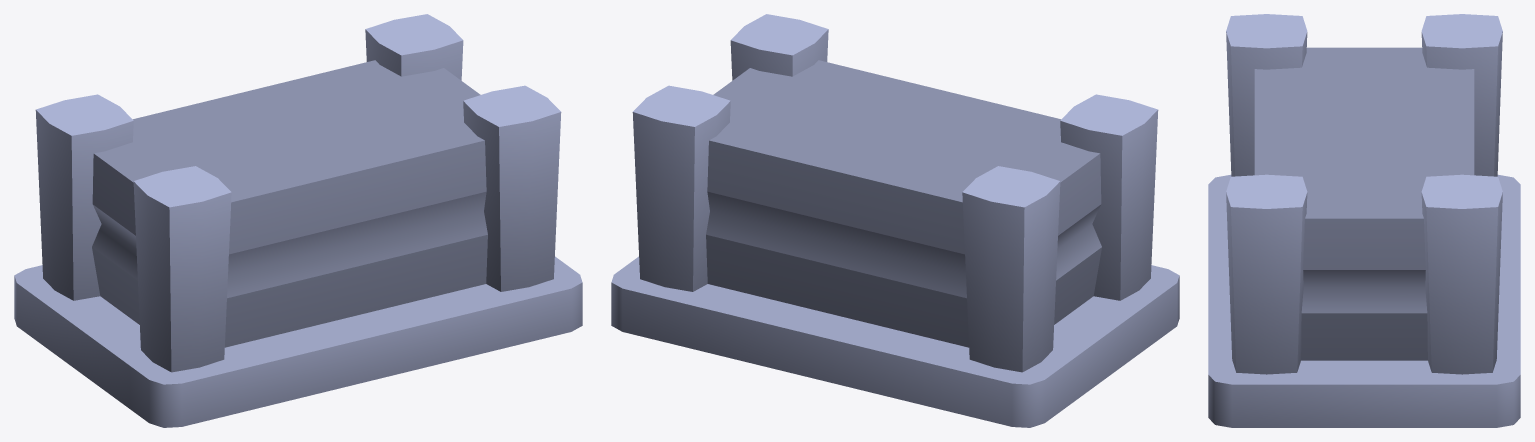
Rendered from cc0-altar-stone-lod0.glb.
3 renders of one model, left to right at view 1: azimuth 30°, elevation 25°; view 2: azimuth 150°, elevation 25°; view 3: azimuth 270°, elevation 25°, orthographic.
Parts seen in each view (by area): view 1: part_0; view 2: part_0; view 3: part_0.
Part boxes in pixels (<box>): part_0: <box>14,14,582,427</box>; part_0: <box>611,14,1179,427</box>; part_0: <box>1208,14,1520,427</box>.
Size of the model in its own units: 1.04 by 0.4876 by 0.6532.
1 material, 1 textured.
